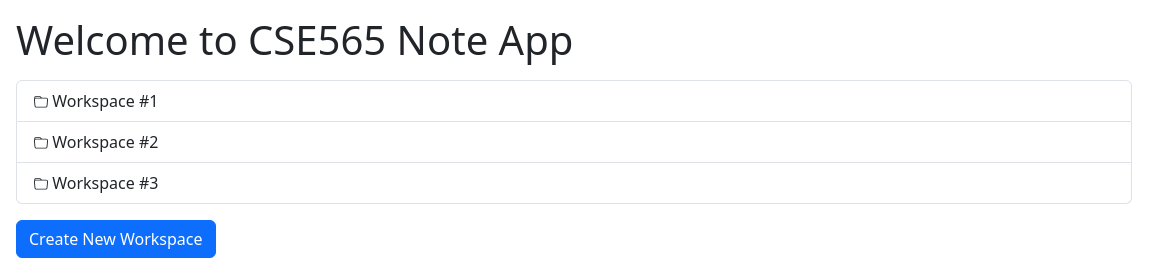
WorkspaceScreen component with Navigation
This screenshot has width=1149, height=275.
# Wait for the screen to update after the click
Click the link "Workspace #1". click: (105, 101)
box: top-left (16, 80), bottom-right (1132, 122)
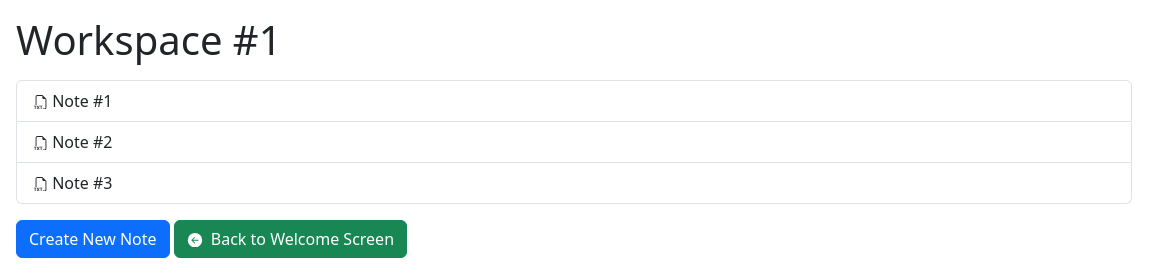
Expected: the link "Create New Note" is shown, top-left (16, 220), bottom-right (170, 258)
Expected: the link "Back to Welcome Screen" is shown, top-left (174, 220), bottom-right (407, 258)
Expected: the link "Note #1" is shown
# Wait for the screen to update after the click
Click the link "Note #1". click: (82, 101)
box: top-left (16, 80), bottom-right (1132, 122)
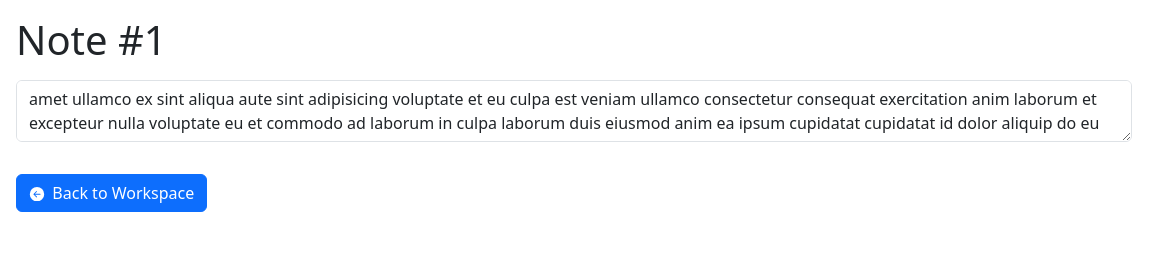
Expected: the text box with test id "content-text-area" is shown, top-left (16, 80), bottom-right (1132, 142)
Expected: the heading "Note #1" is shown, top-left (16, 12), bottom-right (167, 67)
